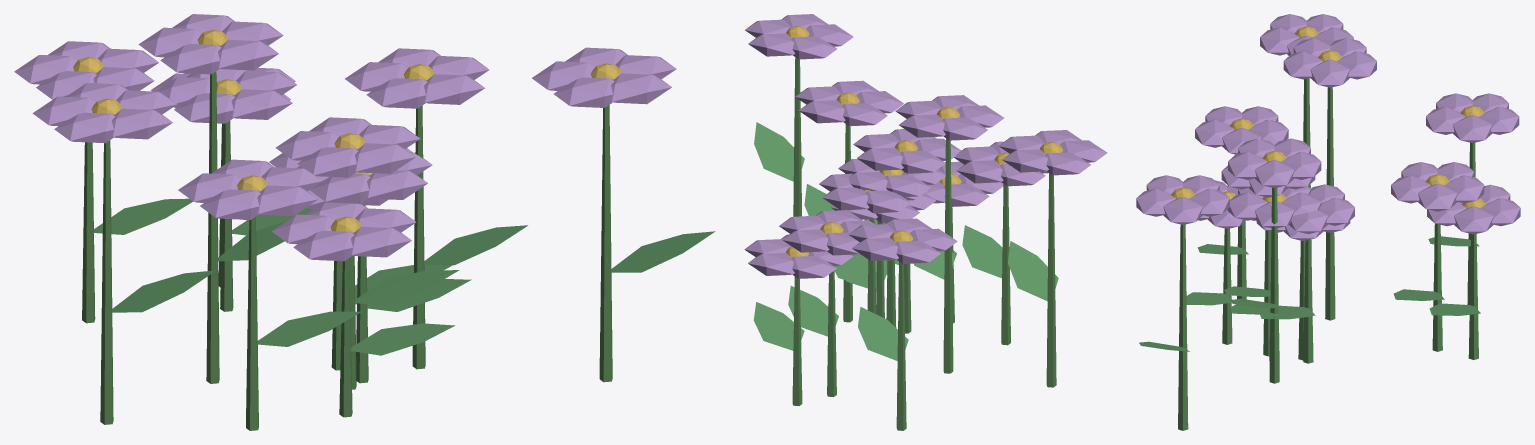
File: flowers-03.glb
3 views of the same model, side by side, from view 1: azimuth 30°, elevation 25°; view 2: azimuth 150°, elevation 25°; view 3: azimuth 270°, elevation 25° (orthographic). The views are drawn at different scales.
Parts seen in each view (by area): view 1: part_000; view 2: part_000; view 3: part_000.
Boxes of the visible parts, x1,y1,x2,y2 form: part_000: (14,14,715,430); part_000: (744,14,1107,430); part_000: (1136,14,1520,430).
Size of the model in its own units: 0.8155 by 0.4908 by 0.6403.
